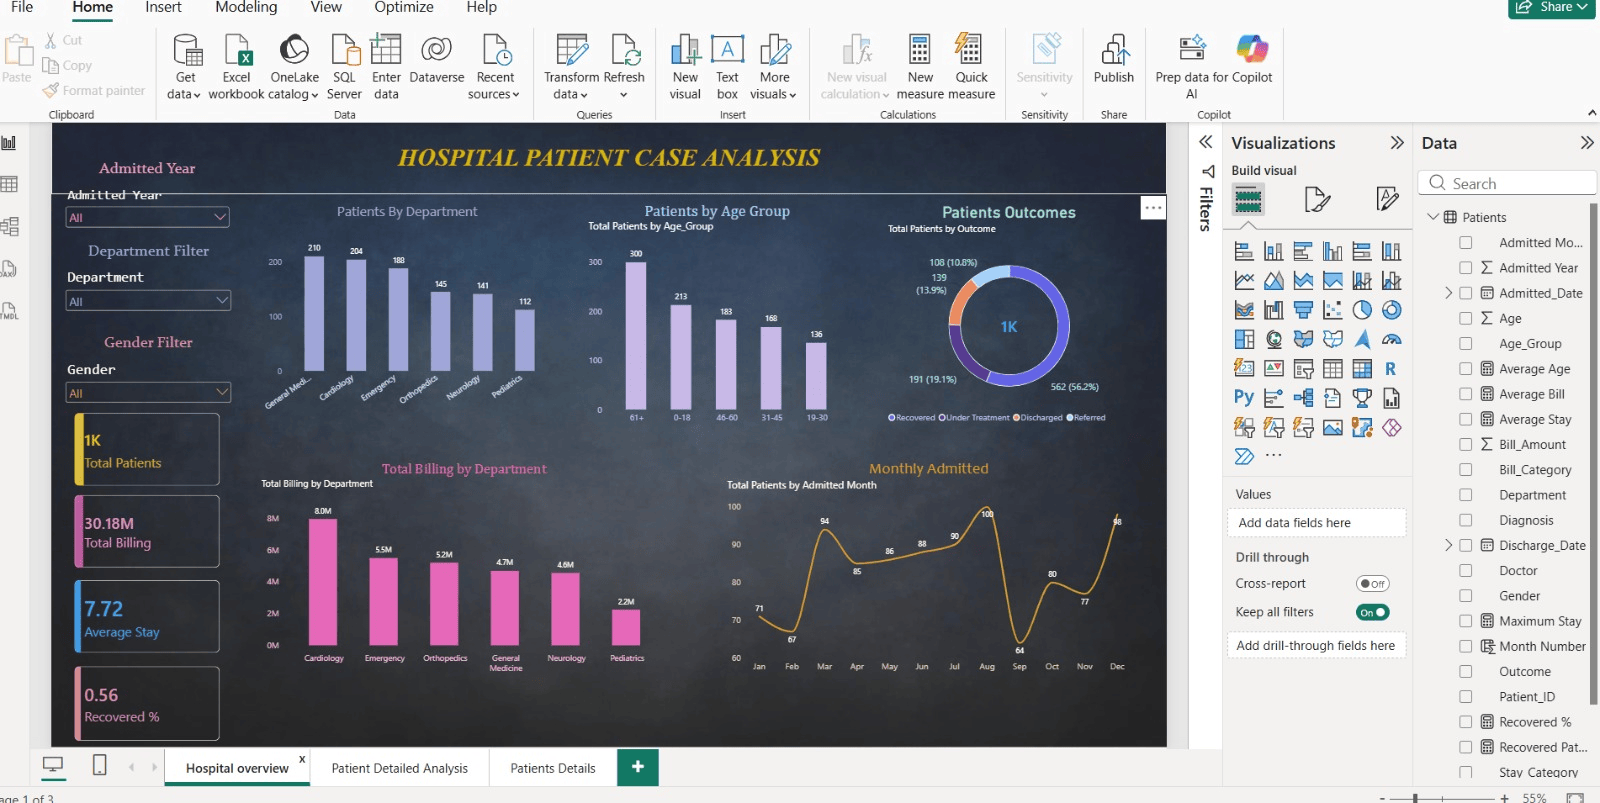

The page's visual inventory and layout, read from the dashboard file:
{"tool":"powerbi","page":{"name":"Hospital  overview","canvas":[1920,1080],"ordinal":0},"visuals":[{"type":"cardVisual","fields":{"Data":["Patients.Total Patients"]},"box":[39.8,501.3,250,125],"z":0},{"type":"cardVisual","fields":{"Data":["Patients.Total Billing"]},"box":[39.8,642.4,250,125],"z":1000},{"type":"cardVisual","fields":{"Data":["Patients.Average Stay"]},"box":[39.8,789,250,125],"z":2000},{"type":"cardVisual","fields":{"Data":["Patients.Recovered %"]},"box":[39.8,937.4,250,128.3],"z":3000},{"type":"clusteredColumnChart","title":"Patients By Department","fields":{"Category":["Patients.Department"],"Y":["Patients.Total Patients"]},"box":[345.6,124.9,533.8,414.4],"z":4000},{"type":"donutChart","title":"Patients Outcomes","fields":{"Category":["Patients.Outcome"],"Y":["Patients.Total Patients"]},"box":[1424.2,124.9,448.8,414.4],"z":5000},{"type":"lineChart","title":"Monthly Admitted","fields":{"Y":["Patients.Total Patients"],"Category":["Patients.Admission_Month"]},"box":[1147.3,564.6,725.7,403.6],"z":6000},{"type":"clusteredColumnChart","title":"Patients by Age Group","fields":{"Category":["Patients.Age_Group"],"Y":["Patients.Total Patients"]},"box":[908.4,124.9,475.9,414.4],"z":7000},{"type":"clusteredColumnChart","title":"Total Billing by Department","fields":{"Category":["Patients.Department"],"Y":["Patients.Total Billing"]},"box":[345.6,570,729.3,398.1],"z":8000},{"type":"slicer","title":"Gender Filter","fields":{"Values":["Patients.Gender"]},"box":[19.9,361.9,295,141.2],"z":9000},{"type":"slicer","title":"Department Filter","fields":{"Values":["Patients.Department"]},"box":[19.9,204.5,295,139.3],"z":10000},{"type":"slicer","title":"Admitted Year","fields":{"Values":["Patients.Admission_Year"]},"box":[19.9,63.3,291.4,159.3],"z":11000},{"type":"textbox","box":[0,0,1920.1,124.9],"z":12000}]}

Visuals, with their boxes on the page's 1920x1080 design canvas (x1, y1, x2, y2). These are canvas units, not pixel positions in the 1600x803 screenshot, which may show the page scaled, cropped or inside an application window:
cardVisual - Patients.Total Patients: detection(40, 501, 290, 626)
cardVisual - Patients.Total Billing: detection(40, 642, 290, 767)
cardVisual - Patients.Average Stay: detection(40, 789, 290, 914)
cardVisual - Patients.Recovered %: detection(40, 937, 290, 1066)
"Patients By Department" clusteredColumnChart: detection(346, 125, 879, 539)
"Patients Outcomes" donutChart: detection(1424, 125, 1873, 539)
"Monthly Admitted" lineChart: detection(1147, 565, 1873, 968)
"Patients by Age Group" clusteredColumnChart: detection(908, 125, 1384, 539)
"Total Billing by Department" clusteredColumnChart: detection(346, 570, 1075, 968)
"Gender Filter" slicer: detection(20, 362, 315, 503)
"Department Filter" slicer: detection(20, 204, 315, 344)
"Admitted Year" slicer: detection(20, 63, 311, 223)
textbox: detection(0, 0, 1920, 125)
